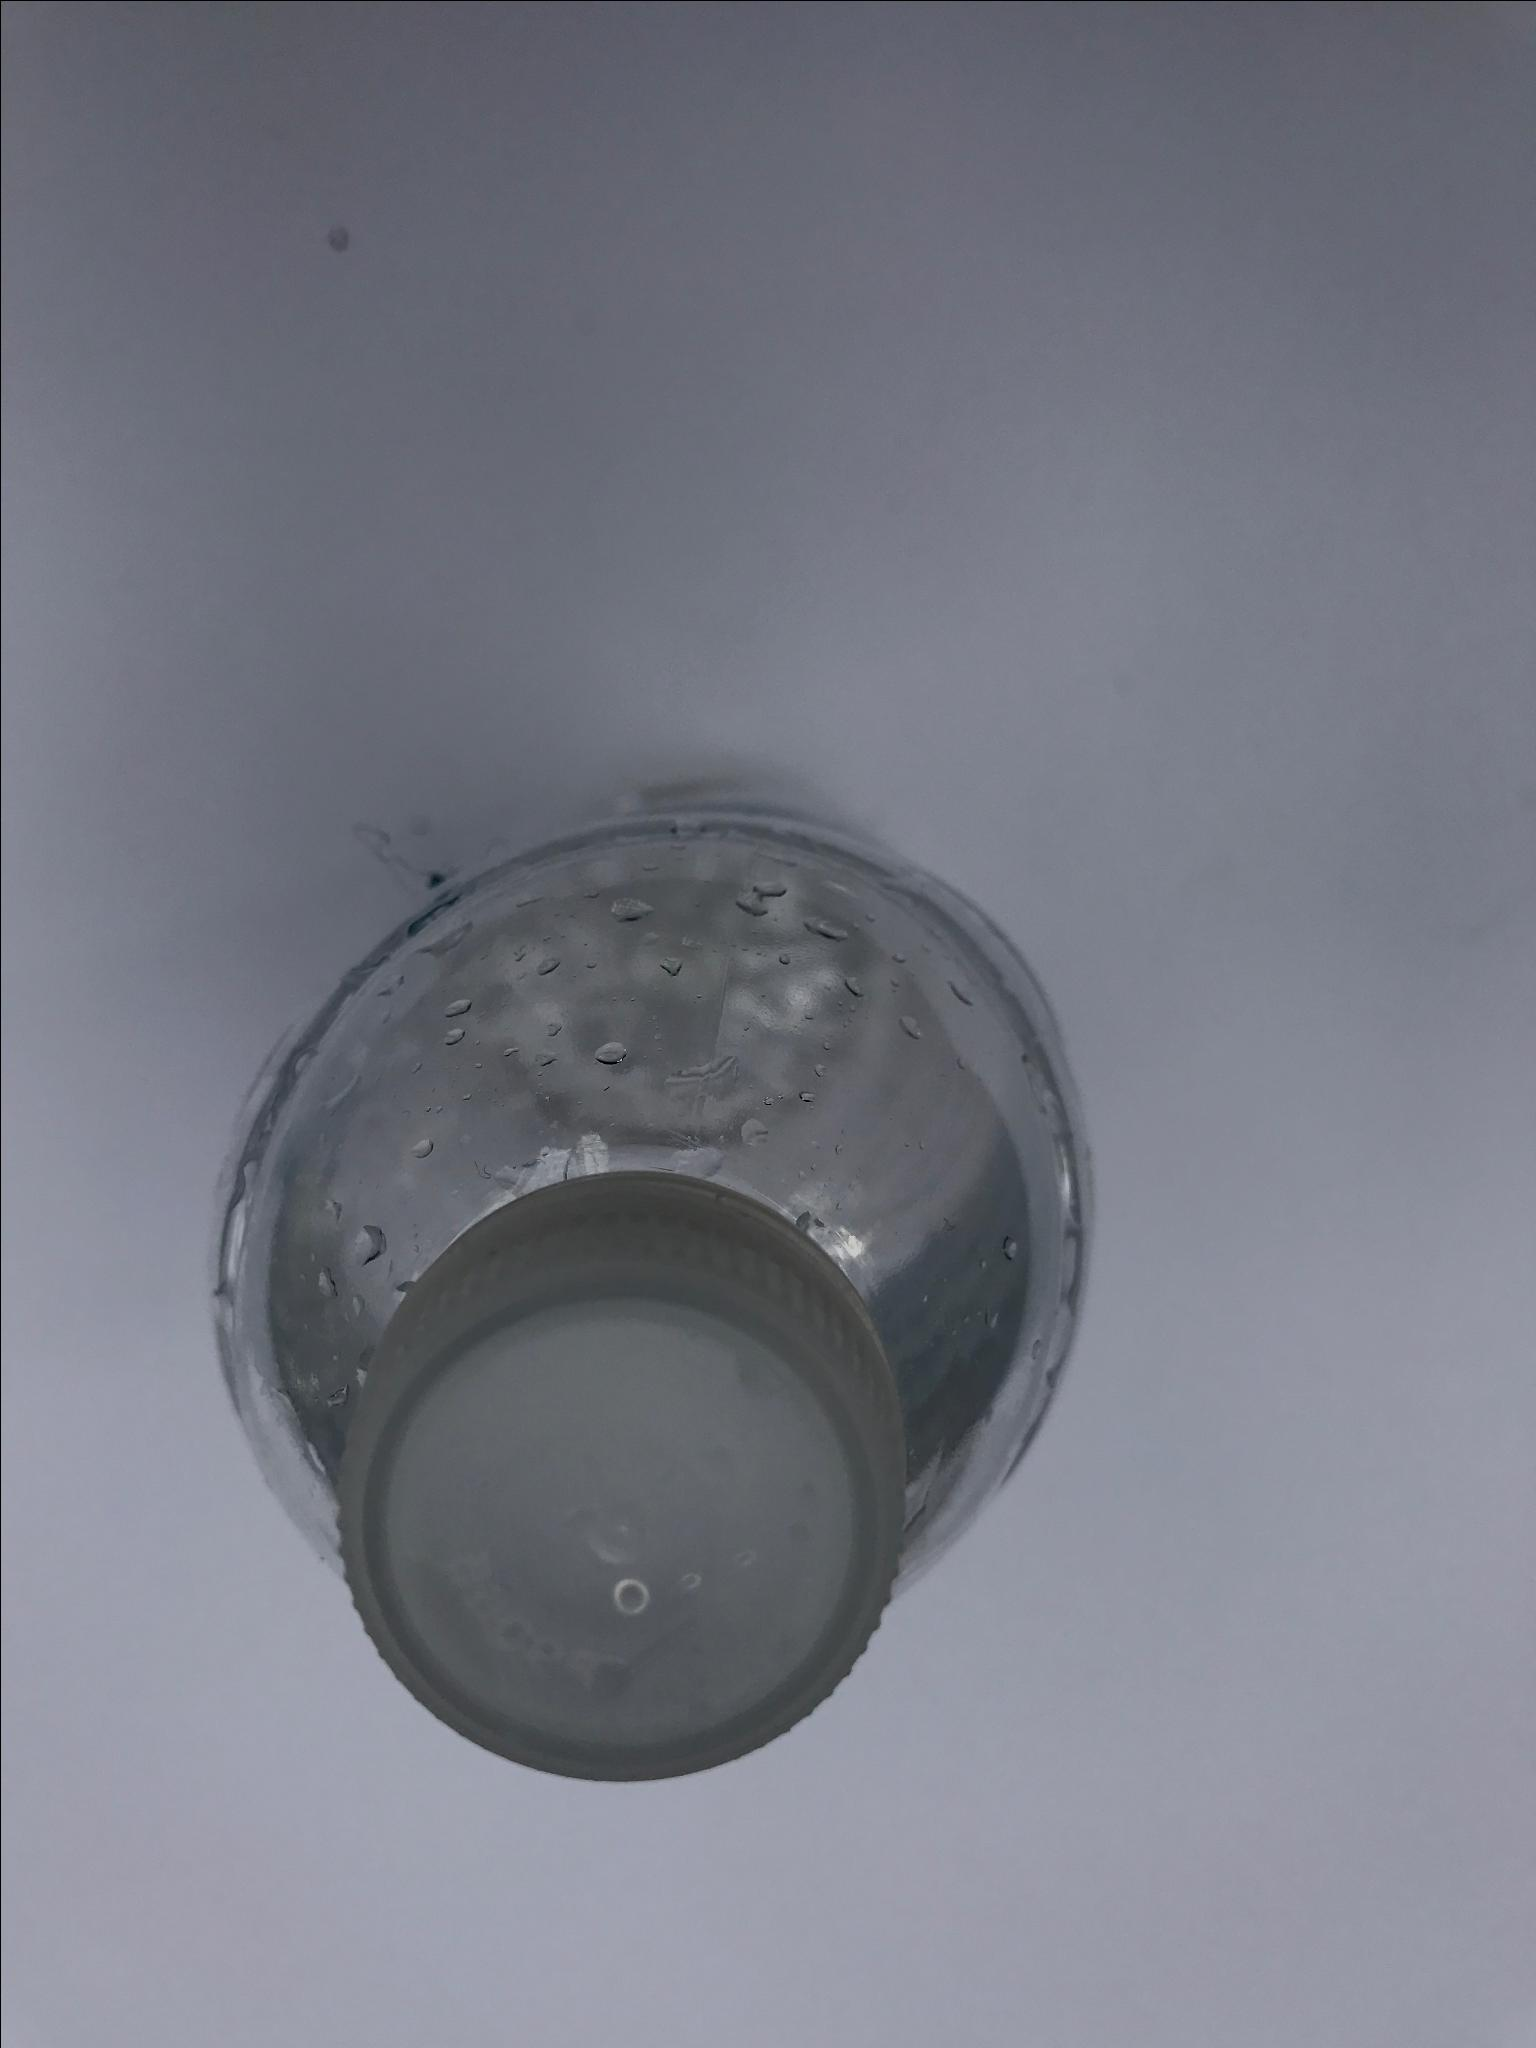Plastic: (194, 761, 1102, 1793)
